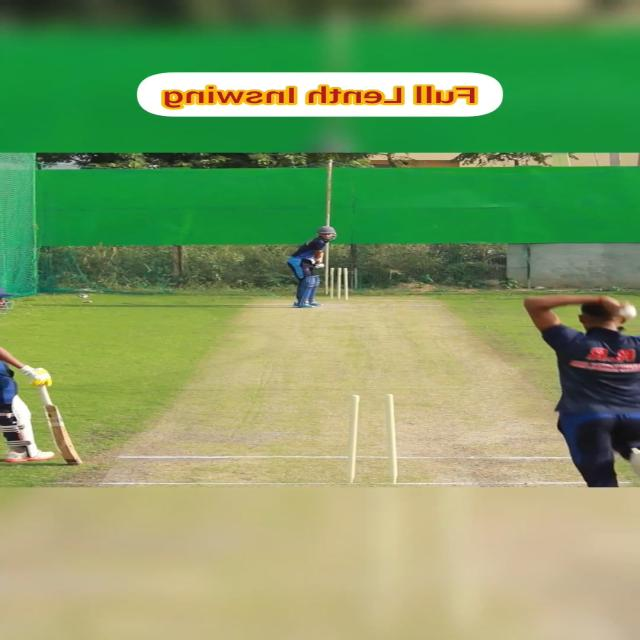stump: (342, 392, 399, 486), (328, 266, 350, 300)
